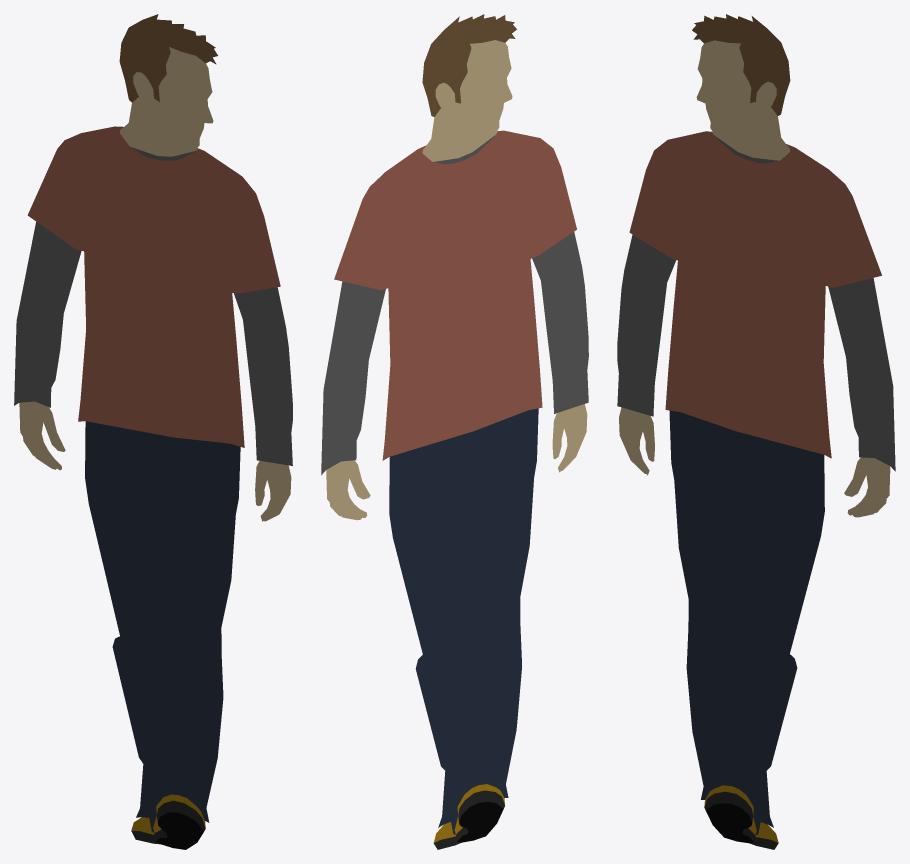
File: samsung.fbx
3 renders of one model, left to right at view 1: azimuth 90°, elevation 25°; view 2: azimuth 150°, elevation 25°; view 3: azimuth 270°, elevation 25°, orthographic.
Visible parts, largest first — view 1: Bryce1; view 2: Bryce1; view 3: Bryce1.
Boxes of the visible parts, x1,y1,x2,y2 form: Bryce1: (14, 14, 292, 849); Bryce1: (321, 14, 588, 849); Bryce1: (617, 14, 895, 849).
Size of what is drawn, in the model's own units: 11.58 by 71.19 by 21.65.
